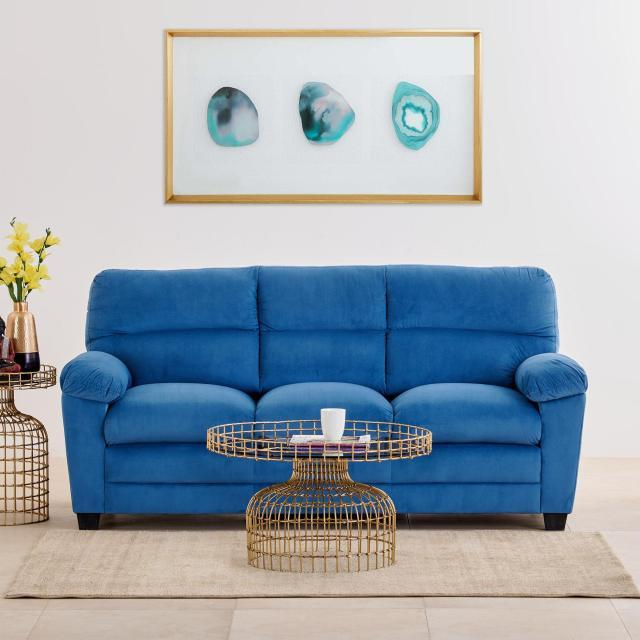sofa: (59, 263, 588, 532)
